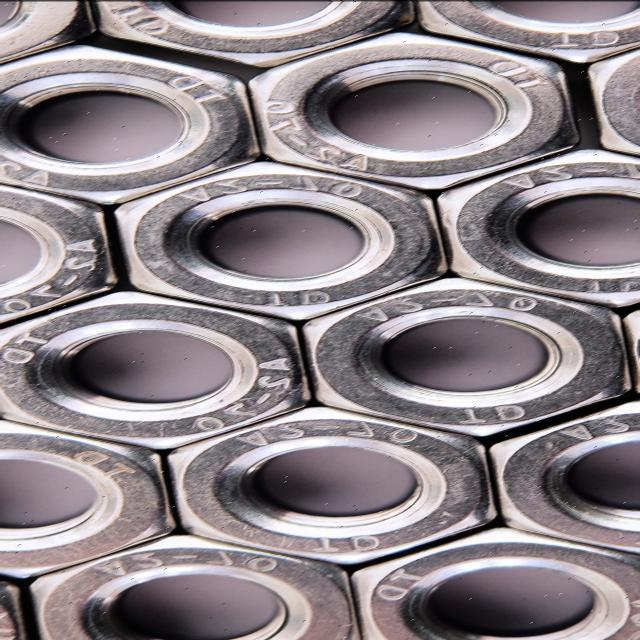Nut: (109, 158, 451, 322), (245, 30, 583, 192), (166, 406, 502, 566), (0, 288, 317, 452), (0, 45, 260, 205), (34, 532, 358, 640), (432, 146, 640, 308), (353, 527, 640, 640), (0, 419, 181, 579), (490, 396, 638, 558), (94, 0, 418, 69), (0, 183, 128, 327), (413, 0, 640, 63), (0, 0, 100, 66), (585, 48, 640, 156)
